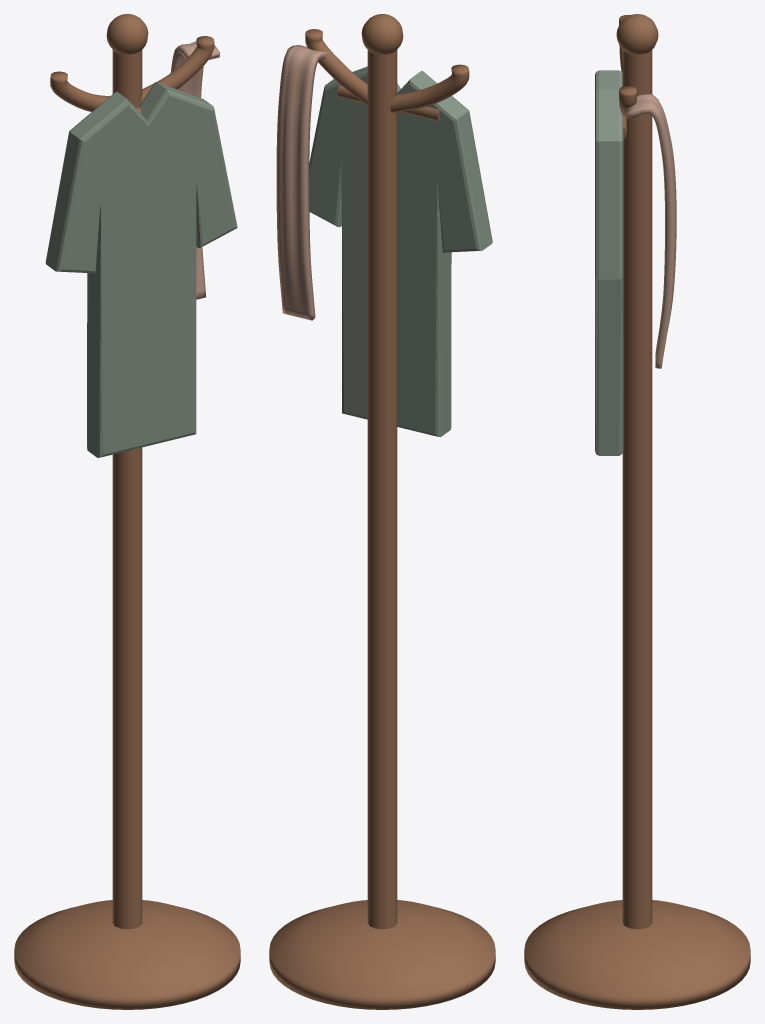
Rendered from coatrack.glb.
The picture shows the model from 3 angles, left to right: view 1: azimuth 30°, elevation 25°; view 2: azimuth 150°, elevation 25°; view 3: azimuth 270°, elevation 25°; orthographic projection.
Parts seen in each view (by area): view 1: single-hanging-coat, grounded-turned-base, continuous-rack-post, rounded-crown, single-draped-scarf, receiving-coat-hook-1, receiving-coat-hook--1; view 2: single-hanging-coat, continuous-rack-post, grounded-turned-base, single-draped-scarf, receiving-coat-hook--1, receiving-coat-hook-1, rounded-crown, coat-hanger-shoulder-rail; view 3: continuous-rack-post, grounded-turned-base, single-hanging-coat, single-draped-scarf, rounded-crown.
Part boxes in pixels (box(x1,y1,x2,y2)): single-hanging-coat: box(45, 82, 237, 457); grounded-turned-base: box(14, 900, 240, 1009); continuous-rack-post: box(112, 50, 142, 929); rounded-crown: box(106, 14, 148, 54); single-draped-scarf: box(170, 41, 220, 299); receiving-coat-hook-1: box(141, 36, 214, 102); receiving-coat-hook--1: box(50, 71, 109, 111); single-hanging-coat: box(309, 66, 492, 437); continuous-rack-post: box(367, 50, 397, 929); grounded-turned-base: box(269, 900, 495, 1009); single-draped-scarf: box(276, 45, 327, 320); receiving-coat-hook--1: box(390, 64, 469, 112); receiving-coat-hook-1: box(305, 29, 367, 105); rounded-crown: box(361, 14, 403, 54); coat-hanger-shoulder-rail: box(337, 85, 439, 121); continuous-rack-post: box(622, 50, 652, 929); grounded-turned-base: box(524, 900, 750, 1009); single-hanging-coat: box(595, 70, 623, 455); single-draped-scarf: box(627, 93, 676, 368); rounded-crown: box(616, 14, 658, 54).
Size of the model in its own units: 0.43 by 2 by 0.43.
